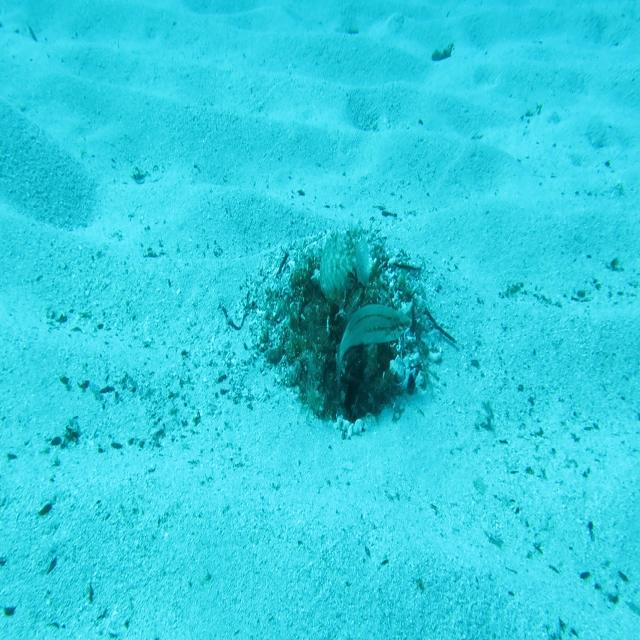NIP_CORE: (308, 225, 365, 300)
core_nest: (306, 274, 356, 323)
female: (330, 306, 404, 400)
nest: (236, 216, 449, 454)
vegetation: (430, 35, 455, 65)
